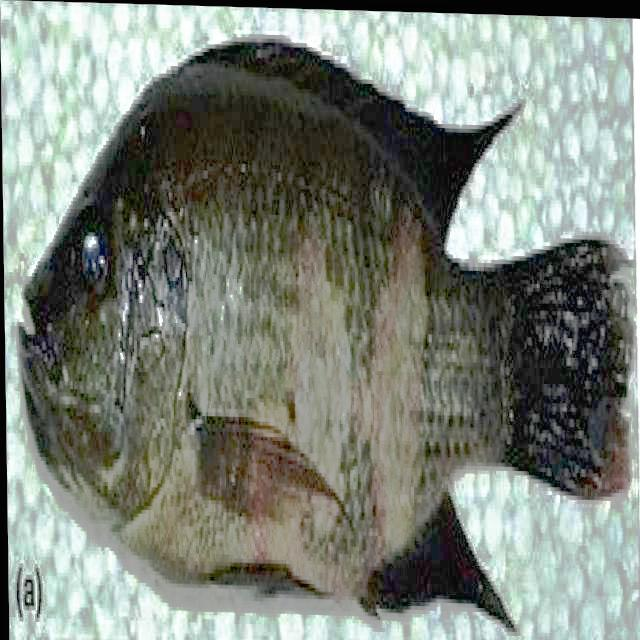Tilapia Lake Virus -TiLV-: (19, 39, 633, 628)
